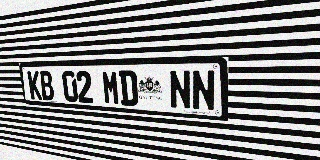0: (61, 71, 78, 102)
2: (76, 71, 93, 103)
B: (39, 71, 55, 101)
D: (118, 70, 138, 106)
K: (27, 71, 42, 100)
M: (101, 70, 120, 105)
N: (191, 70, 215, 112), (169, 70, 191, 110)
